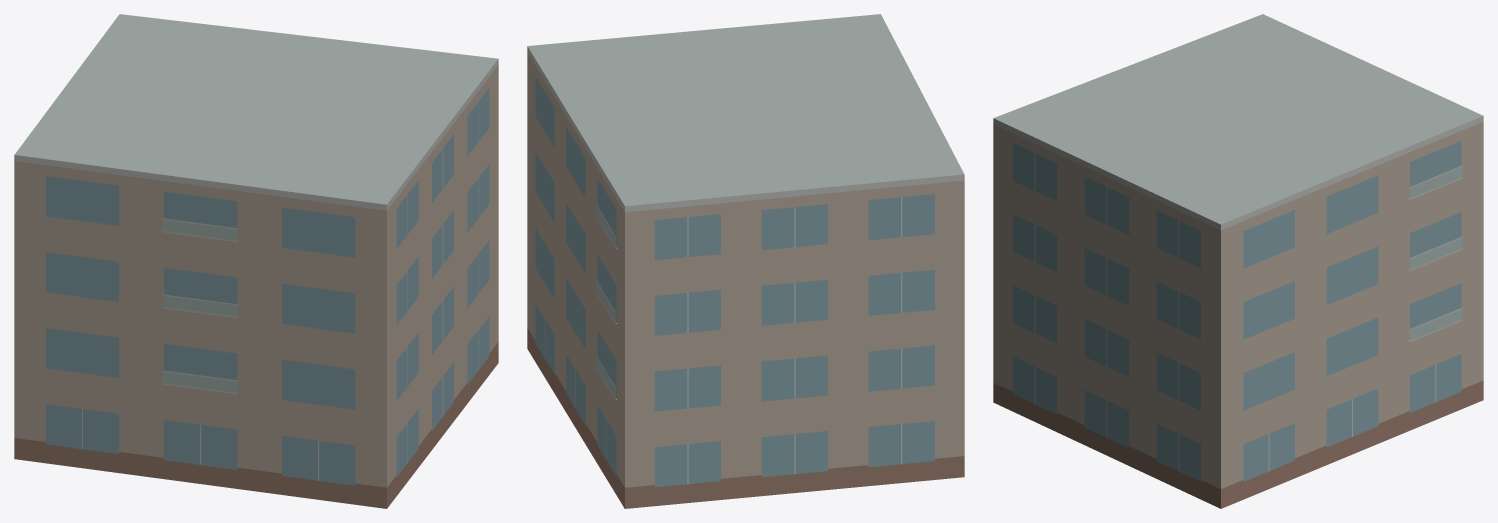
Rendered from survey-upis-32838843.glb.
The picture shows the model from 3 angles, left to right: view 1: azimuth 30°, elevation 25°; view 2: azimuth 150°, elevation 25°; view 3: azimuth 270°, elevation 25°; orthographic projection. The views are drawn at different scales.
Parts seen in each view (by area): view 1: survey-upis-32838843.tmp; view 2: survey-upis-32838843.tmp; view 3: survey-upis-32838843.tmp.
Part boxes in pixels (x1,y1,x2,y2): survey-upis-32838843.tmp: (14, 14, 498, 508); survey-upis-32838843.tmp: (527, 14, 964, 508); survey-upis-32838843.tmp: (993, 14, 1483, 508).
Bounding box in the file's own units: 19.39 × 12.2 × 19.08.
